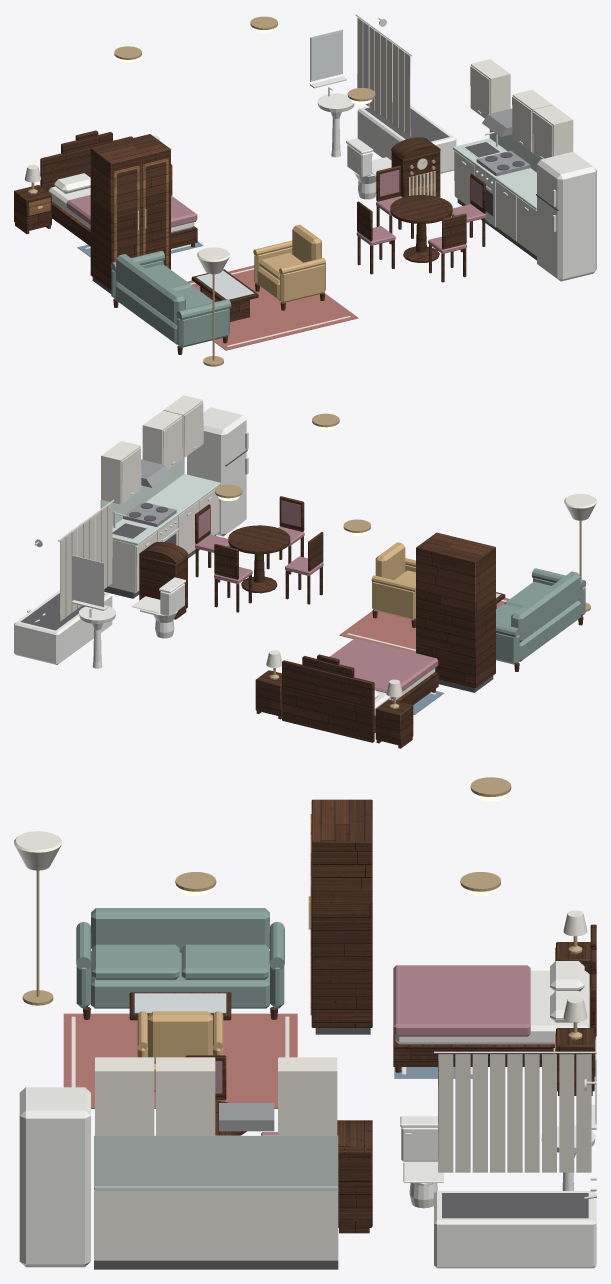
File: apt_front.glb
3 views of the same model, one above another, from view 1: azimuth 30°, elevation 25°; view 2: azimuth 150°, elevation 25°; view 3: azimuth 270°, elevation 25° (orthographic). The views are drawn at different scales.
Parts seen in each view (by area): view 1: apt_front_dkwood, apt_front_cream, apt_front_appliance, apt_front_fabric, apt_front_porcelain, apt_front_cloth, apt_front_rug, apt_front_fabric2, apt_front_fabric3, apt_front_dark, apt_front_mirror, apt_front_tile_k (+5 smaller); view 2: apt_front_dkwood, apt_front_cream, apt_front_fabric, apt_front_porcelain, apt_front_fabric3, apt_front_appliance, apt_front_tile_k, apt_front_cloth, apt_front_fabric2, apt_front_chrome, apt_front_dark, apt_front_rug (+2 smaller); view 3: apt_front_cream, apt_front_dkwood, apt_front_fabric, apt_front_cloth, apt_front_tile_k, apt_front_appliance, apt_front_porcelain, apt_front_fabric3, apt_front_rug, apt_front_dark, apt_front_linen, apt_front_fabric2 (+4 smaller).
Boxes of the visible parts, x1,y1,x2,y2 form: apt_front_dkwood: [14, 130, 485, 354]; apt_front_cream: [24, 59, 573, 346]; apt_front_appliance: [475, 152, 596, 281]; apt_front_fabric: [110, 250, 231, 347]; apt_front_porcelain: [310, 76, 456, 199]; apt_front_cloth: [357, 17, 435, 196]; apt_front_rug: [187, 265, 358, 350]; apt_front_fabric2: [253, 224, 325, 302]; apt_front_fabric3: [66, 170, 485, 253]; apt_front_dark: [92, 102, 558, 293]; apt_front_mirror: [196, 31, 341, 299]; apt_front_tile_k: [453, 129, 540, 210]; apt_front_dkwood: [139, 496, 583, 748]; apt_front_cream: [101, 395, 596, 710]; apt_front_fabric: [496, 568, 586, 664]; apt_front_porcelain: [14, 577, 185, 668]; apt_front_fabric3: [195, 500, 438, 699]; apt_front_appliance: [157, 407, 246, 545]; apt_front_tile_k: [100, 458, 220, 545]; apt_front_cloth: [59, 502, 112, 621]; apt_front_fabric2: [371, 542, 415, 620]; apt_front_chrome: [27, 432, 248, 622]; apt_front_dark: [20, 449, 493, 692]; apt_front_rug: [339, 598, 509, 652]; apt_front_cream: [14, 831, 587, 1260]; apt_front_dkwood: [83, 799, 596, 1233]; apt_front_fabric: [76, 908, 284, 1008]; apt_front_cloth: [438, 1054, 591, 1172]; apt_front_tile_k: [94, 1135, 338, 1190]; apt_front_appliance: [19, 1087, 90, 1267]; apt_front_porcelain: [400, 1104, 596, 1268]; apt_front_fabric3: [215, 965, 530, 1135]; apt_front_rug: [63, 1013, 297, 1108]; apt_front_dark: [94, 824, 588, 1269]; apt_front_linen: [395, 961, 589, 1044]; apt_front_fabric2: [137, 1011, 223, 1091].
Size of the model in its own units: 6.62 by 2.85 by 5.73.
Materials: 20 (2 with a texture image).
